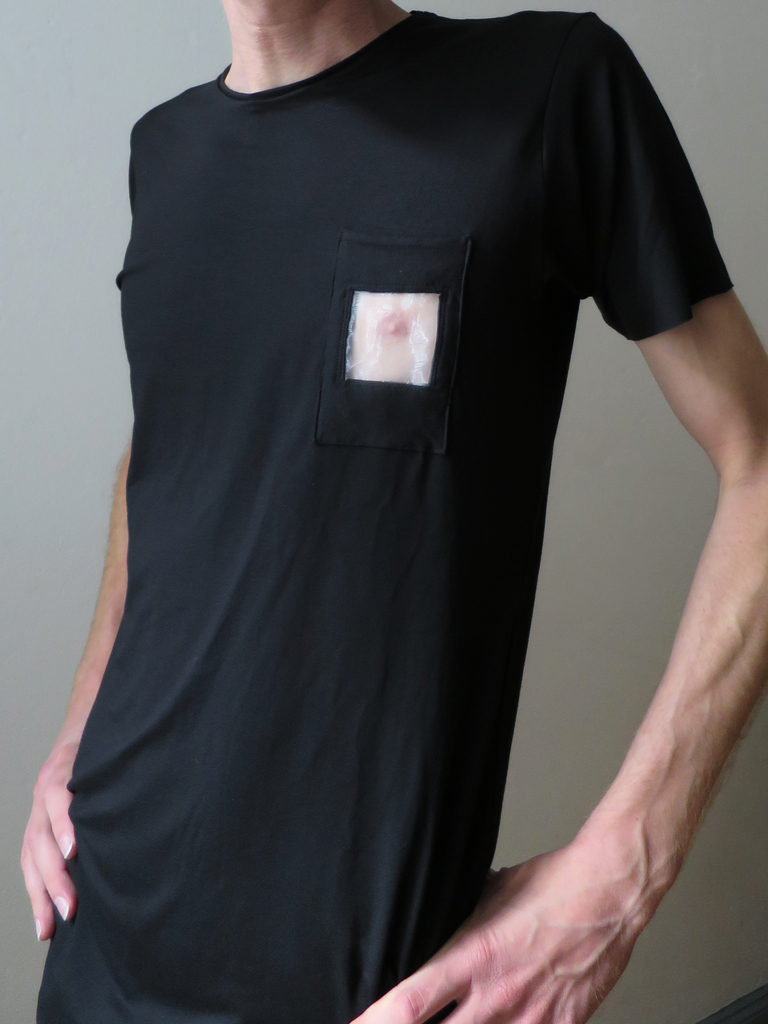Person: (20, 0, 768, 1024)
